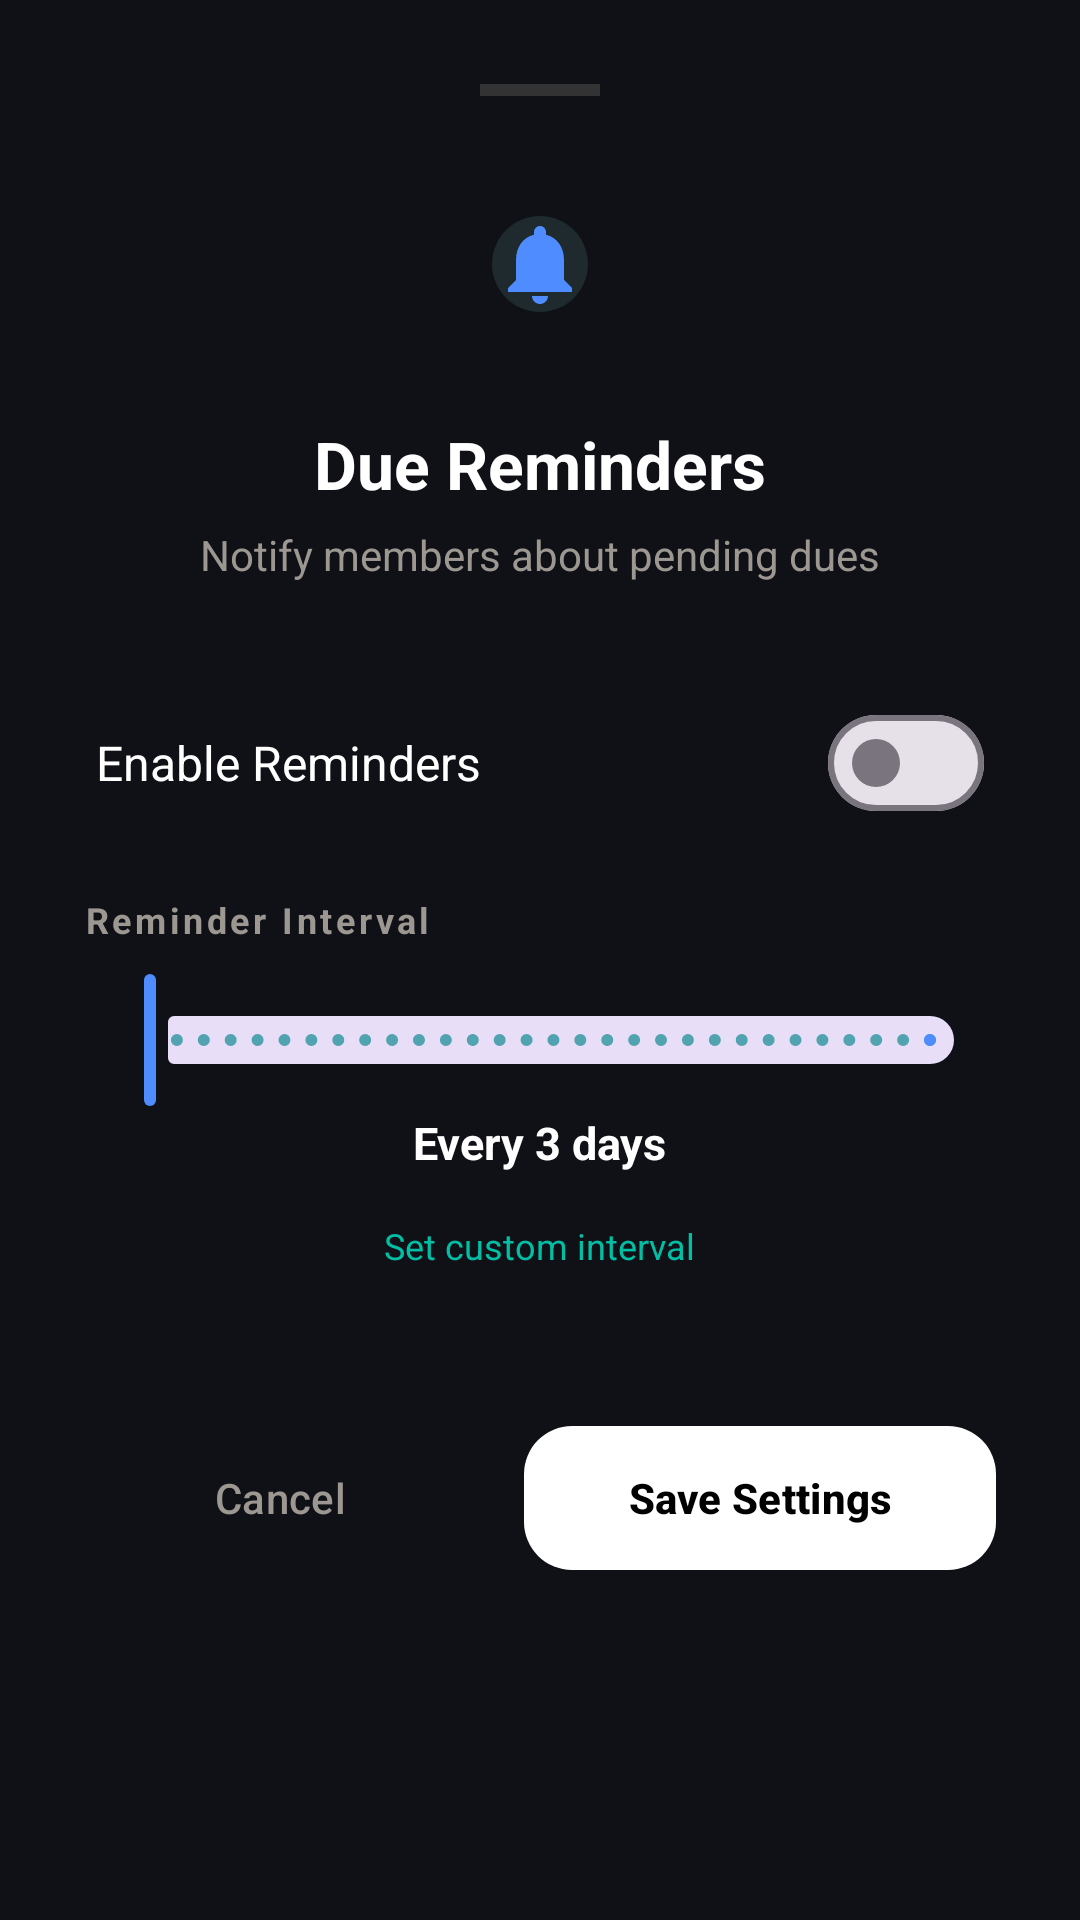

Icons on this 1080w x 1920h Android screen, each with its box as (x1, y1, x2, y2):
notifications: (492, 216, 587, 312)
